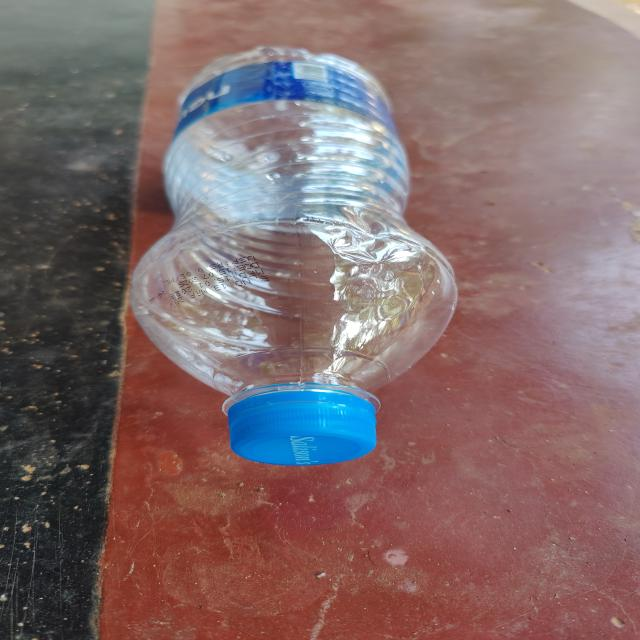plastic: (120, 42, 463, 472)
